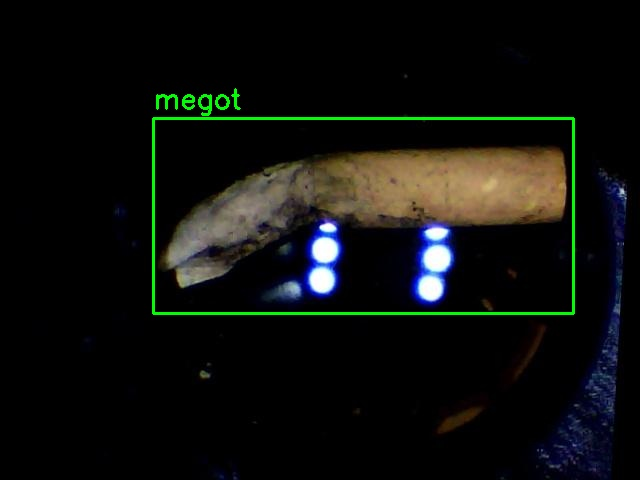megot: (153, 118, 573, 313)
